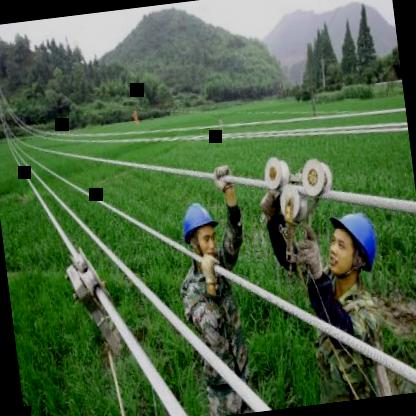helmet: (320, 203, 388, 286), (176, 196, 222, 264)
